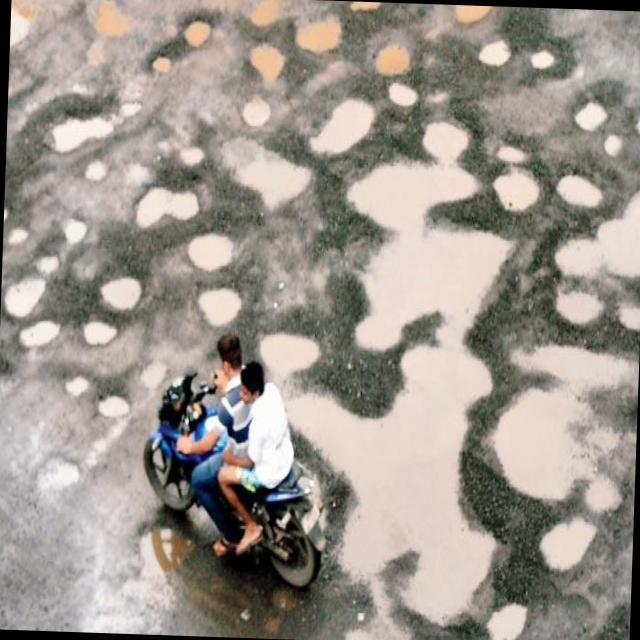Pothole: (274, 343, 503, 630), (352, 224, 514, 350), (488, 385, 586, 503), (551, 166, 640, 287), (350, 157, 478, 224), (516, 338, 633, 393), (226, 134, 312, 207), (530, 504, 598, 575), (306, 91, 376, 155), (130, 182, 203, 228), (258, 330, 324, 380), (551, 279, 609, 330), (49, 106, 112, 152), (490, 163, 544, 214), (192, 280, 245, 330), (292, 11, 346, 56), (554, 170, 604, 213), (424, 116, 470, 162), (188, 227, 235, 271), (97, 271, 144, 315), (586, 463, 621, 520), (486, 595, 527, 640), (90, 1, 134, 40), (13, 316, 62, 350), (6, 276, 44, 316), (250, 42, 286, 84), (375, 39, 411, 78), (576, 96, 610, 133), (82, 318, 118, 350), (57, 214, 90, 248), (182, 16, 212, 50), (97, 390, 130, 420), (242, 94, 270, 128), (617, 294, 640, 334), (447, 5, 495, 24), (476, 41, 512, 66), (82, 153, 107, 184), (386, 82, 419, 105), (144, 51, 173, 75), (499, 140, 526, 165), (250, 0, 278, 24), (62, 374, 90, 397), (36, 251, 60, 275), (534, 46, 556, 70), (6, 224, 30, 242), (604, 135, 623, 157), (352, 3, 382, 15), (634, 112, 640, 144)
